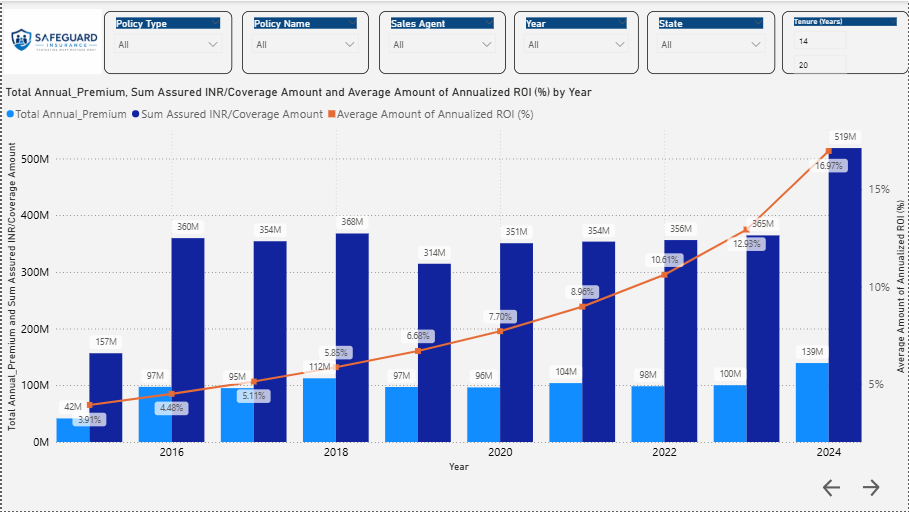

This screenshot's page, from the dashboard's own definition file:
{"tool":"powerbi","page":{"name":"Annual Premium vs Protection Value","canvas":[1280,720],"ordinal":3},"visuals":[{"type":"image","box":[0,11.3,144,91.8],"z":0},{"type":"slicer","fields":{"Values":["DM Policy_Type.Policy Type"]},"box":[144,14.1,180.7,88.9],"z":1000},{"type":"slicer","fields":{"Values":["DM Policy_Protection_Plan.Policy Name"]},"box":[338.8,14.1,179.3,88.9],"z":2000},{"type":"slicer","fields":{"Values":["DM Insurance_Agent_Table.Sales Agent"]},"box":[532.2,14.1,179.3,88.9],"z":3000},{"type":"slicer","fields":{"Values":["FCT Insurance_Policy_Table.Date of Purchase.Variation.Date Hierarchy.Year"]},"box":[722.8,14.1,176.5,88.9],"z":4000},{"type":"slicer","fields":{"Values":["DM Customer_Detail_Table.State"]},"box":[910.6,14.1,180.7,88.9],"z":5000},{"type":"slicer","fields":{"Values":["FCT Insurance_Policy_Table.Tenure (Years)"]},"box":[1101.2,14.1,179.3,88.9],"z":6000},{"type":"lineClusteredColumnComboChart","fields":{"Y2":["Avg(FCT Insurance_Policy_Table.Annualized ROI (%))"],"Category":["FCT Insurance_Policy_Table.Start Date.Variation.Date Hierarchy.Year"],"Y":["FCT Insurance_Policy_Table.Total Annual_Premium","Sum(FCT Insurance_Policy_Table.Sum Assured INR/Coverage Amount)"]},"box":[0,118.6,1280.5,552],"z":7000},{"type":"actionButton","box":[1209.9,670.6,55,33],"z":8000},{"type":"actionButton","box":[1154.8,670.6,55.1,33.9],"z":9000}]}

Visuals, with their boxes in screenshot pixels (x1, y1, x2, y2), scaled from the page's 1280x720 canvas onto the 909x512 screenshot:
image: bbox=[0, 8, 102, 73]
slicer - DM Policy_Type.Policy Type: bbox=[102, 10, 231, 73]
slicer - DM Policy_Protection_Plan.Policy Name: bbox=[241, 10, 368, 73]
slicer - DM Insurance_Agent_Table.Sales Agent: bbox=[378, 10, 505, 73]
slicer - FCT Insurance_Policy_Table.Date of Purchase.Variation.Date Hierarchy.Year: bbox=[513, 10, 639, 73]
slicer - DM Customer_Detail_Table.State: bbox=[647, 10, 775, 73]
slicer - FCT Insurance_Policy_Table.Tenure (Years): bbox=[782, 10, 908, 73]
lineClusteredColumnComboChart - Avg(FCT Insurance_Policy_Table.Annualized ROI (%)) x FCT Insurance_Policy_Table.Start Date.Variation.Date Hierarchy.Year: bbox=[0, 84, 908, 477]
actionButton: bbox=[859, 477, 898, 500]
actionButton: bbox=[820, 477, 859, 501]
